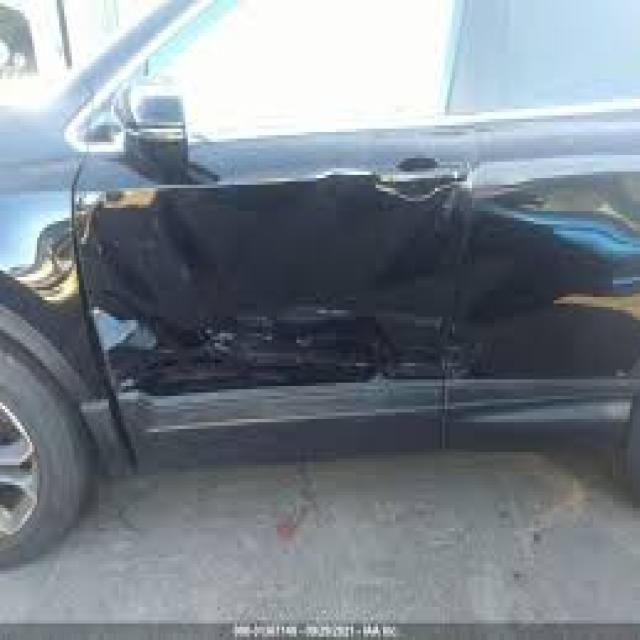damaged-door: (77, 0, 483, 453)
